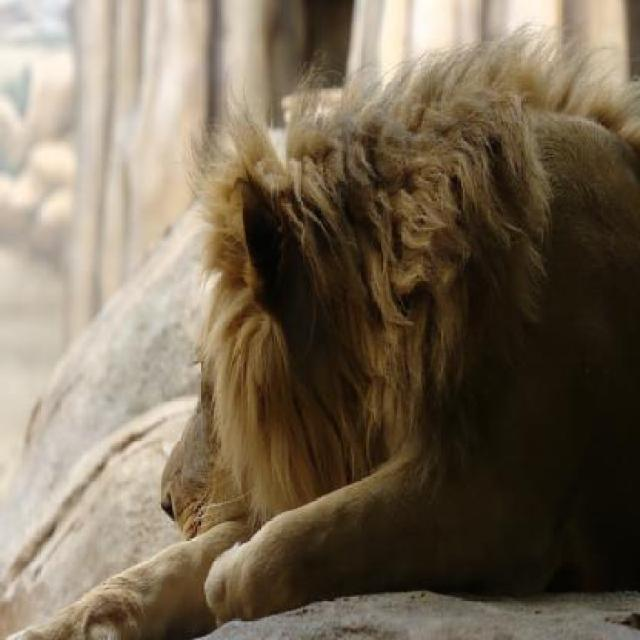Lion: (6, 27, 637, 638)
